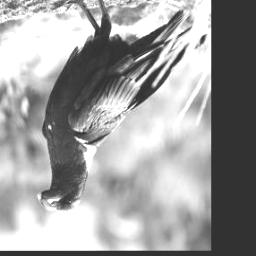Crow: (32, 0, 192, 217)
